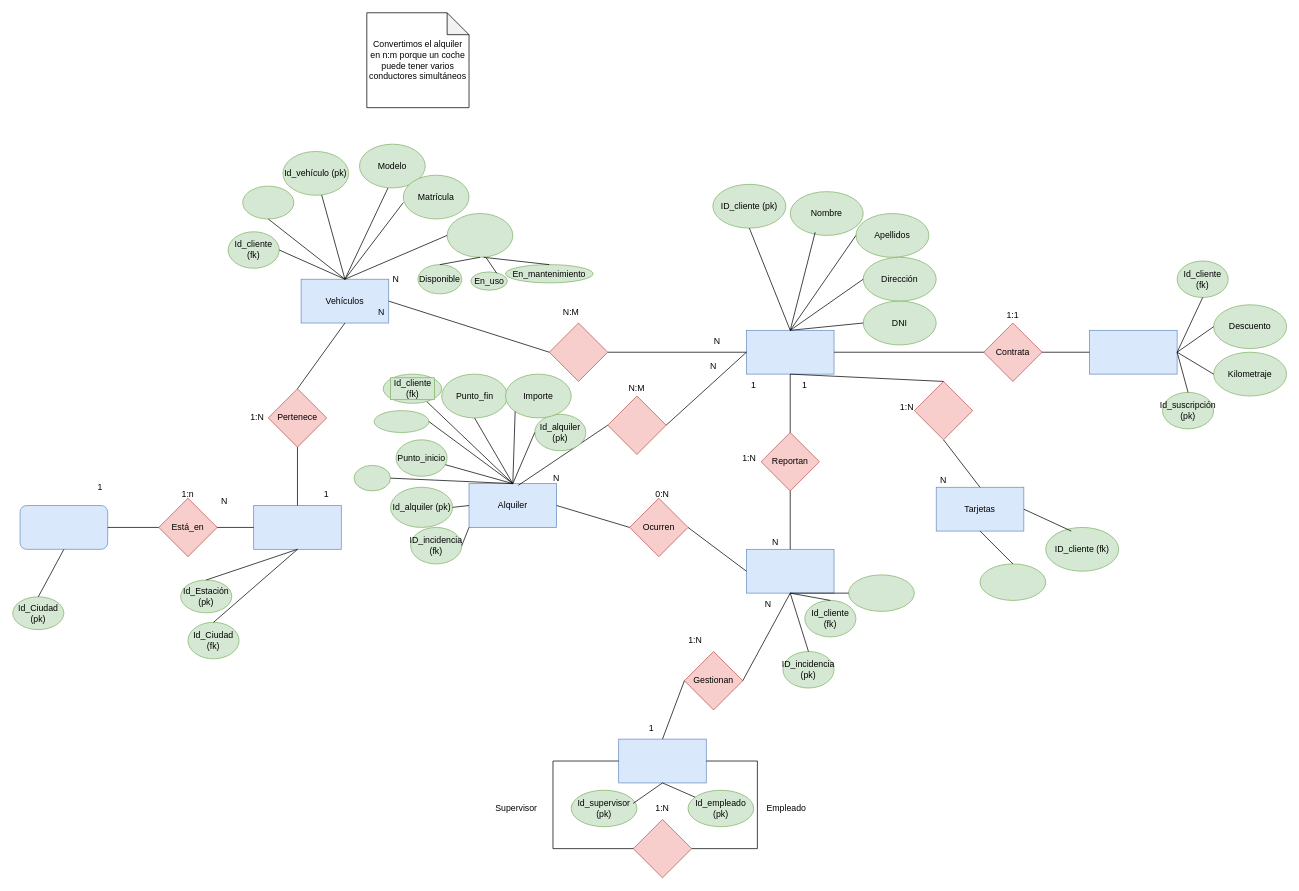
Image size: 1299x891. Some labels were removed from this diagram. The centre of each missing label's shape, as x and y in pixels:
Alquila: (578,351)
Ciudades: (63,527)
Clientes: (790,352)
Duración: (401,421)
Empleados: (662,760)
Estación_carga: (297,527)
Estado: (479,235)
Id_empleado (fk): (881,592)
Id_Estación (fk): (268,202)
Id_tarjeta (pk): (1012,581)
Incidencias: (790,571)
Posee: (943,410)
Realiza: (636,424)
Ruta: (372,478)
Supervisan: (662,848)
Suscripciones: (1133,352)
